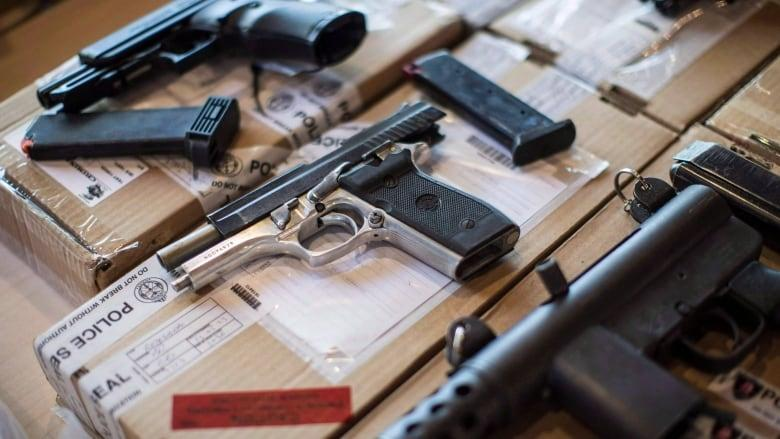handgun: (154, 104, 514, 315)
